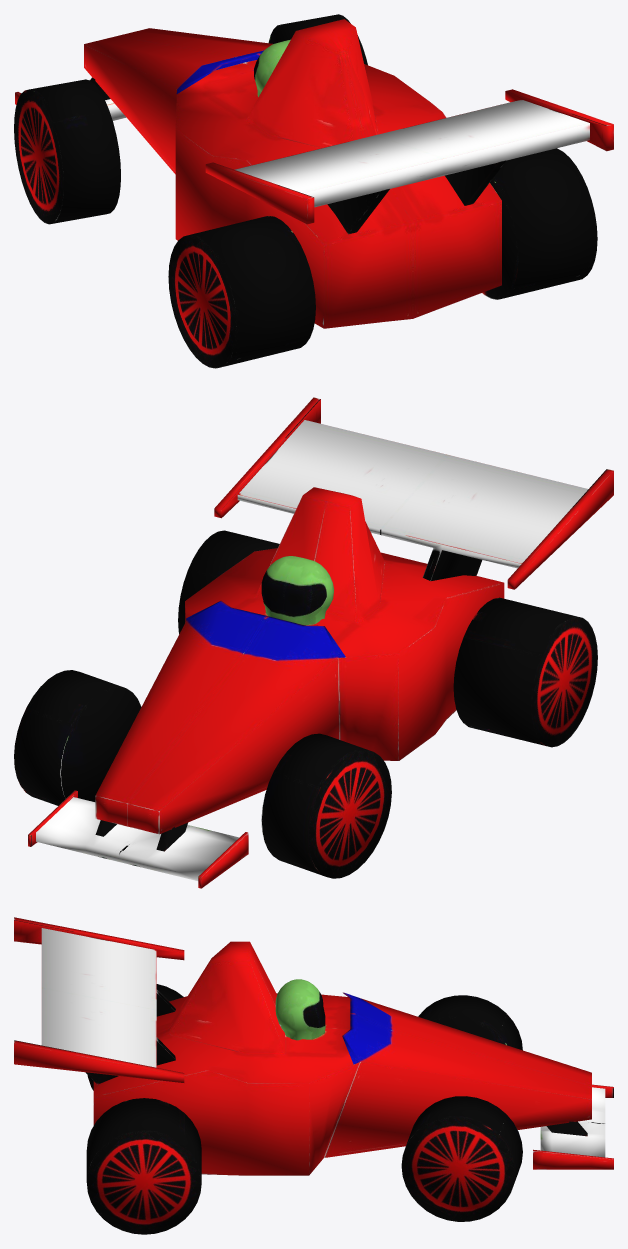
File: MyCarSteerRight.fbx
3 renders of one model, top to bottom at view 1: azimuth 30°, elevation 25°; view 2: azimuth 150°, elevation 25°; view 3: azimuth 270°, elevation 25°, orthographic. The views are drawn at different scales.
Visible parts, largest first — view 1: Sphere_002; view 2: Sphere_002; view 3: Sphere_002.
Boxes of the visible parts, bbox=[...] form: Sphere_002: bbox=[14, 14, 613, 368]; Sphere_002: bbox=[14, 397, 613, 888]; Sphere_002: bbox=[14, 917, 613, 1234].
Size of the model in its own units: 6.09 by 4.05 by 10.43.
Materials: 1 (1 with a texture image).
